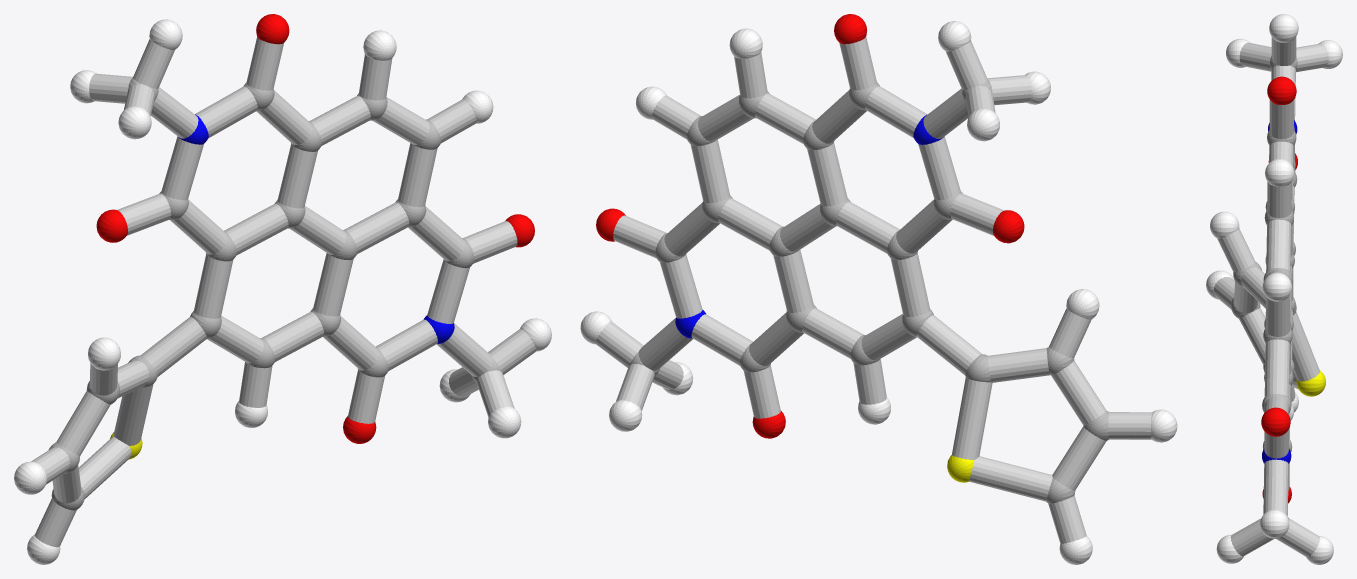
Rendered from Dimethyl_Naphthalene_Dicarboximide_Phi_15_Theta_330_Thiophene.glb.
3 renders of one model, left to right at view 1: azimuth 30°, elevation 25°; view 2: azimuth 150°, elevation 25°; view 3: azimuth 270°, elevation 25°, orthographic. The views are drawn at different scales.
Visible parts, largest first — view 1: grp14119, grp7241, grp1, grp12309, grp11585; view 2: grp14119, grp7241, grp1, grp12309, grp11585; view 3: grp14119, grp7241, grp1, grp12309, grp13757, grp11585.
Boxes of the visible parts, left/top/right/bottom form: grp14119: left=31, top=36, right=536, bottom=547; grp7241: left=14, top=19, right=551, bottom=564; grp1: left=48, top=78, right=501, bottom=510; grp12309: left=96, top=14, right=534, bottom=443; grp11585: left=178, top=114, right=454, bottom=343; grp14119: left=595, top=36, right=1151, bottom=543; grp7241: left=580, top=21, right=1177, bottom=564; grp1: left=629, top=79, right=1108, bottom=503; grp12309: left=596, top=14, right=1024, bottom=438; grp11585: left=675, top=115, right=943, bottom=338; grp14119: left=1213, top=37, right=1328, bottom=556; grp7241: left=1206, top=14, right=1342, bottom=564; grp1: left=1231, top=56, right=1297, bottom=538; grp12309: left=1261, top=76, right=1297, bottom=503; grp13757: left=1296, top=370, right=1325, bottom=396; grp11585: left=1262, top=120, right=1297, bottom=463.
Bounding box in the file's own units: 11.72 × 10.18 × 2.79.
